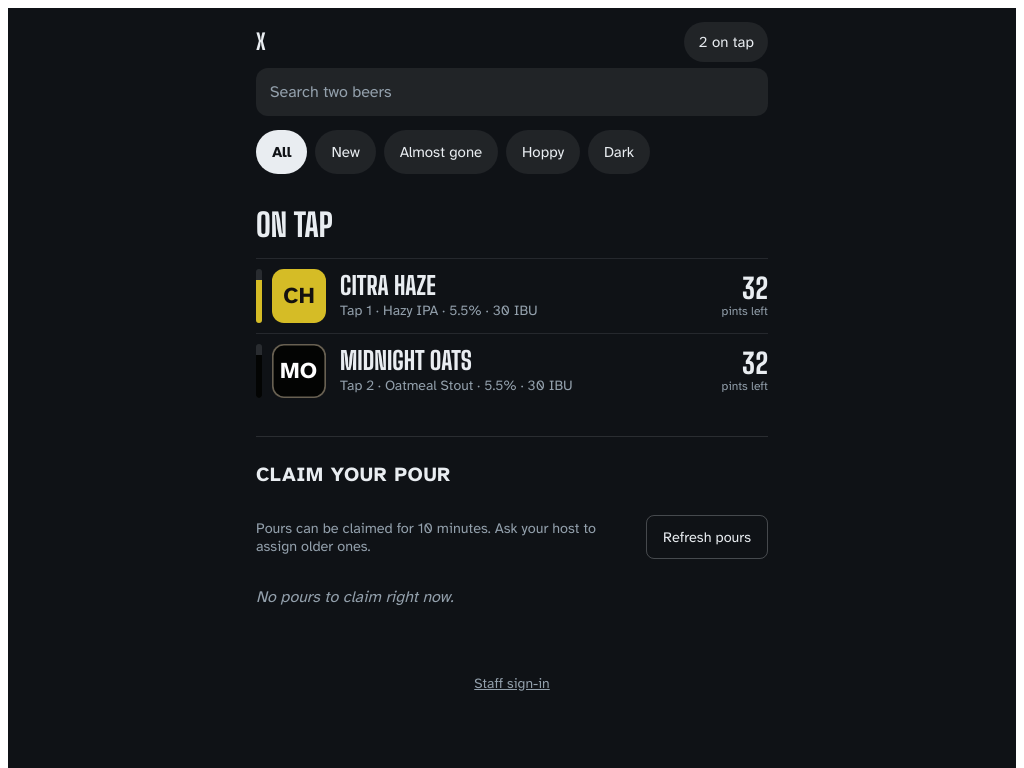
MenuPage › Kegwall V2 phone menu › search narrows the list by name, brewery or style
Type "stout" into the search field with test id "menu-search" showing "Search two beers" at coordinates (512, 92), box [256,68,768,116]
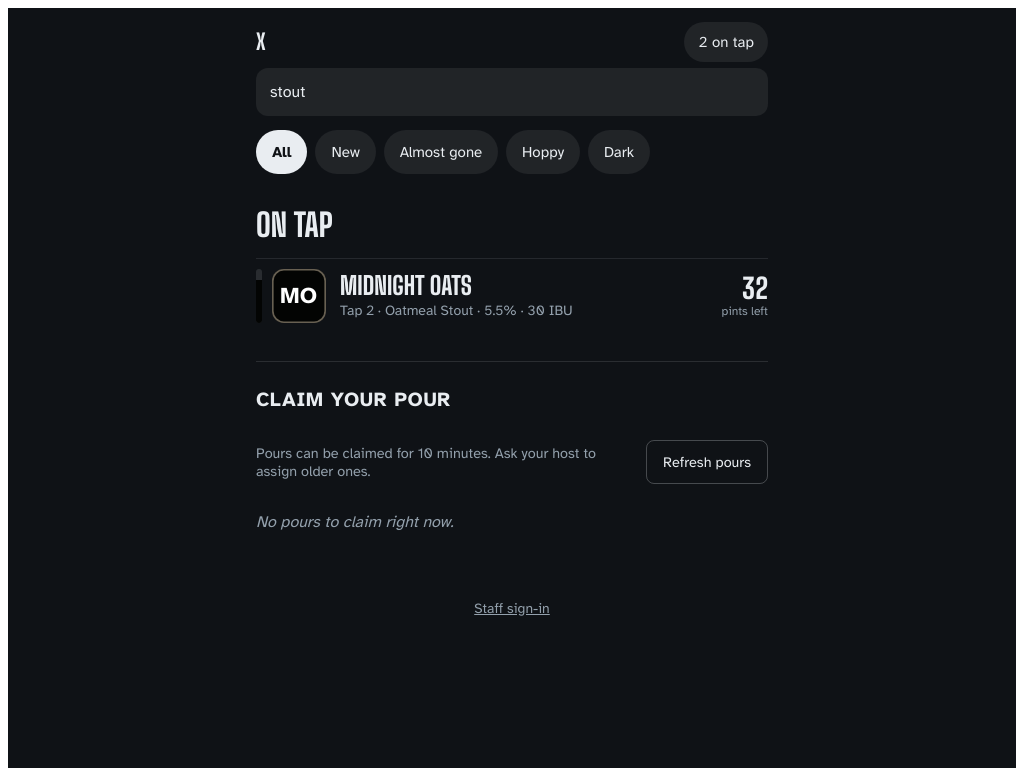
Replace the text in the 1st search field with test id "menu-search" with "zzz" at coordinates (512, 92), box [256,68,768,116]
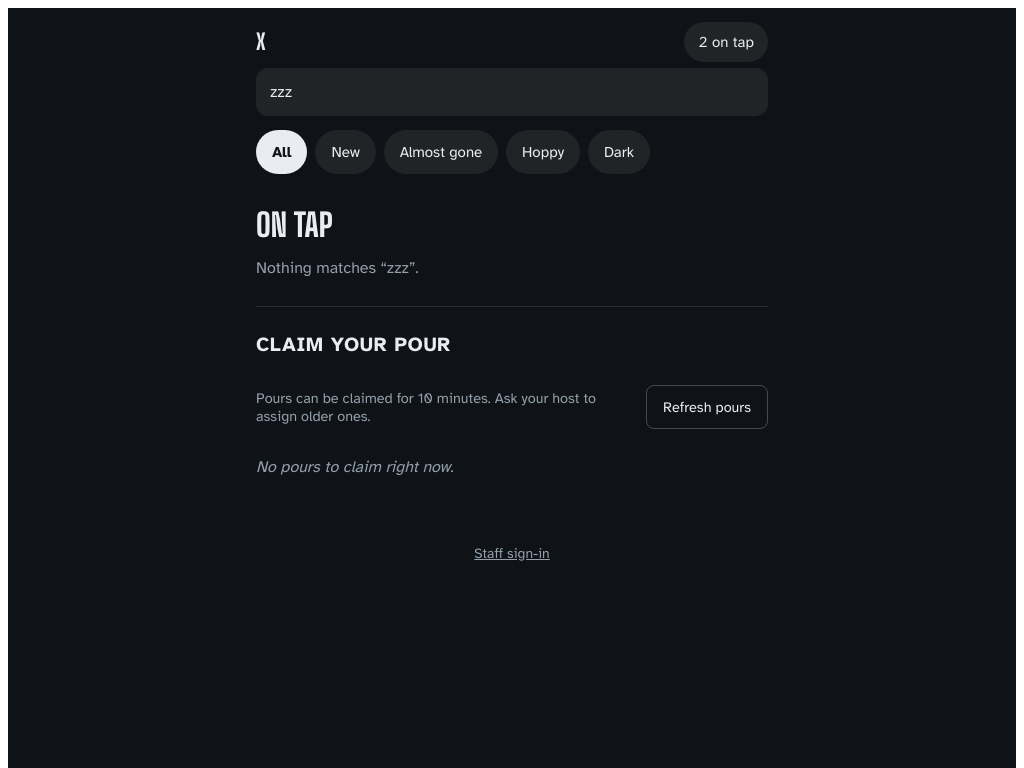
Expected: the text with test id "menu-page-empty" shows "Nothing matches", [256,258,418,278]
